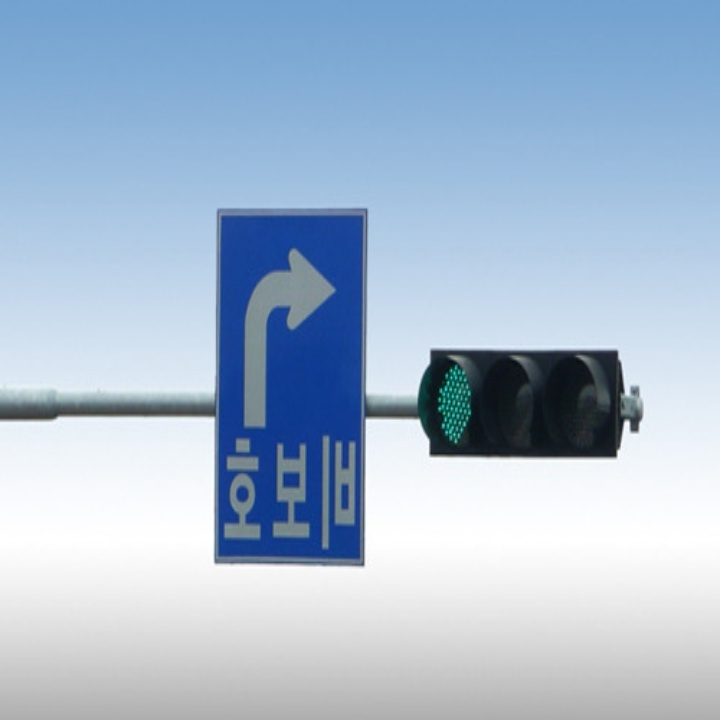right: (240, 235, 343, 428)
